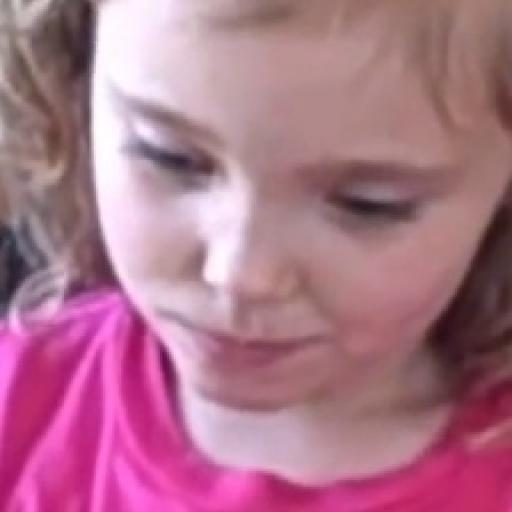Autism: (68, 2, 512, 440)
